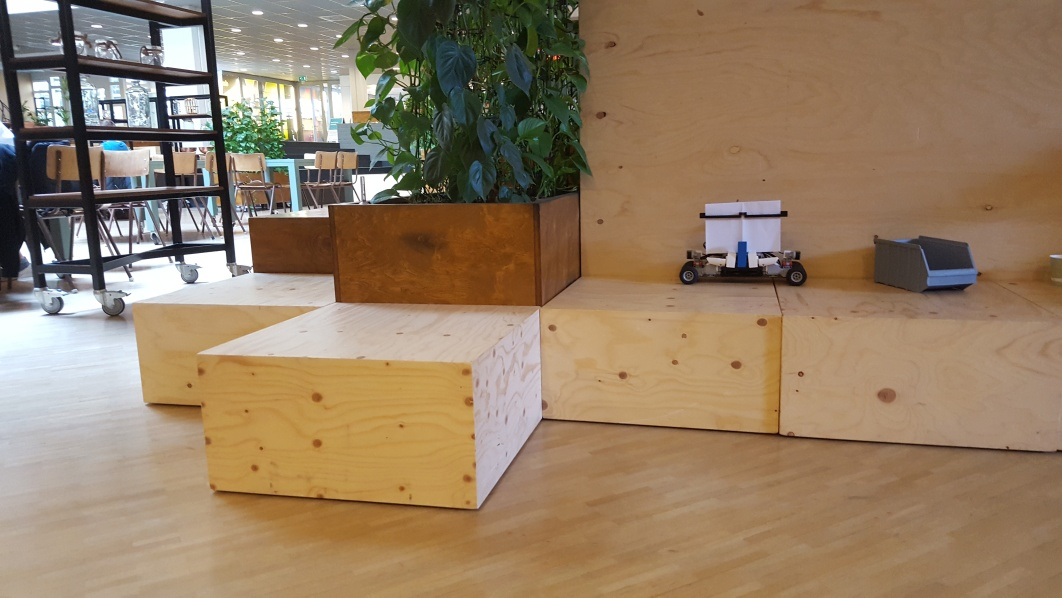beam: (736, 238, 747, 273)
cup: (1048, 252, 1062, 281)
tray: (873, 233, 978, 293)
